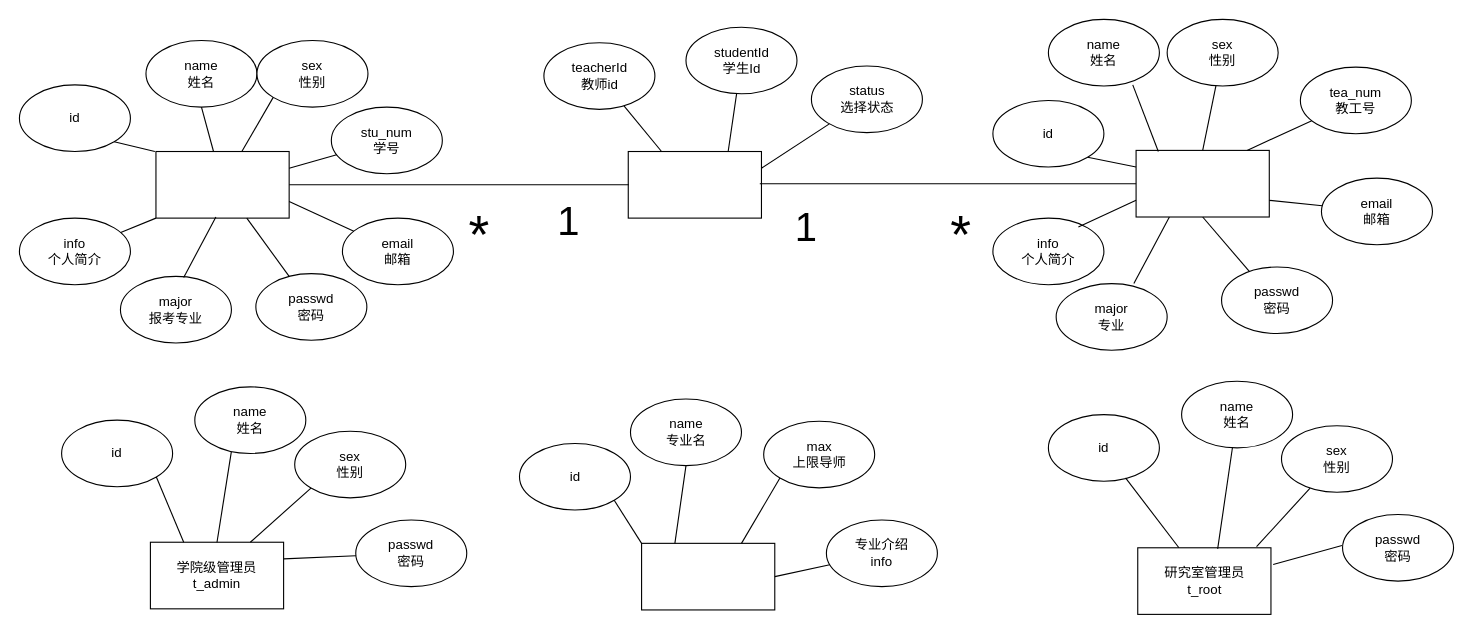
Some shapes in this 1473 by 634 pixel diagram are drawn without their labels. The box of each missing label's shape, as (x1, y1, x2, y2) in pixels:
专业 t_major: (640, 542, 775, 610)
双选 t_dual_choose: (627, 150, 761, 218)
学生 t_student: (155, 150, 289, 218)
教师 student: (1135, 149, 1269, 217)
